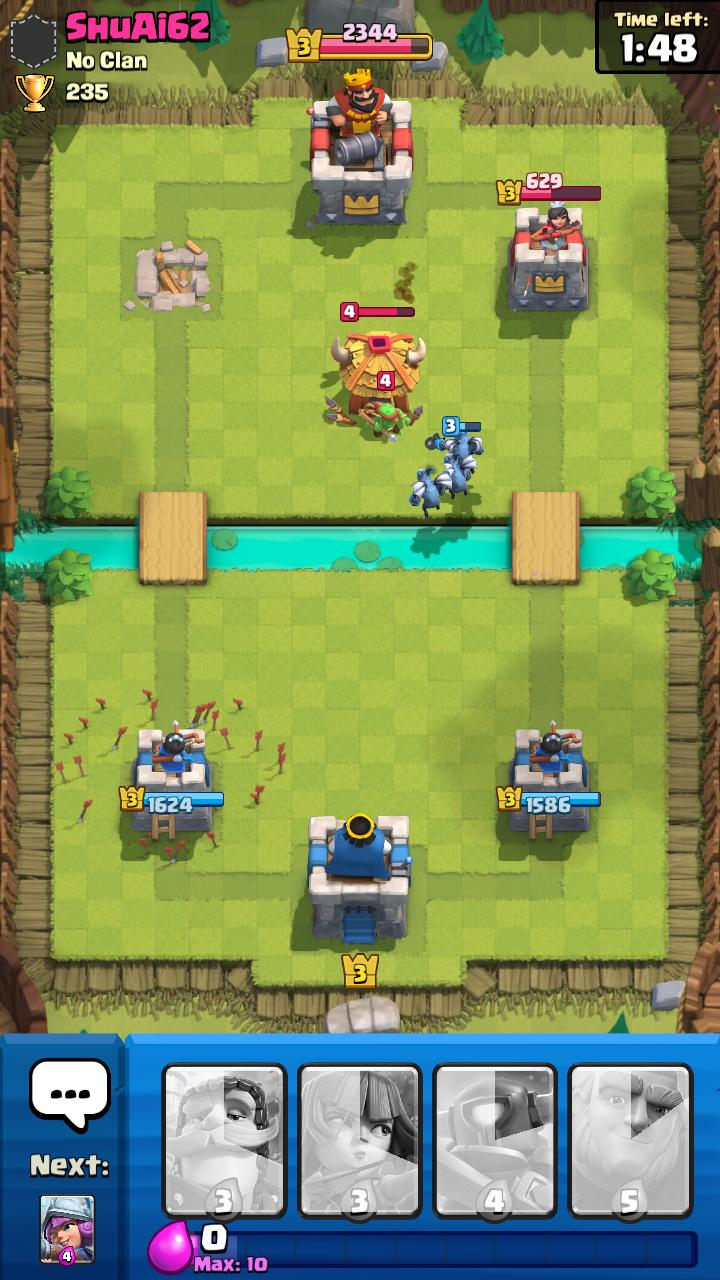ally: (432, 416, 484, 473), (409, 467, 453, 517), (441, 451, 477, 500)
enemy: (324, 302, 427, 425), (358, 371, 411, 442)
